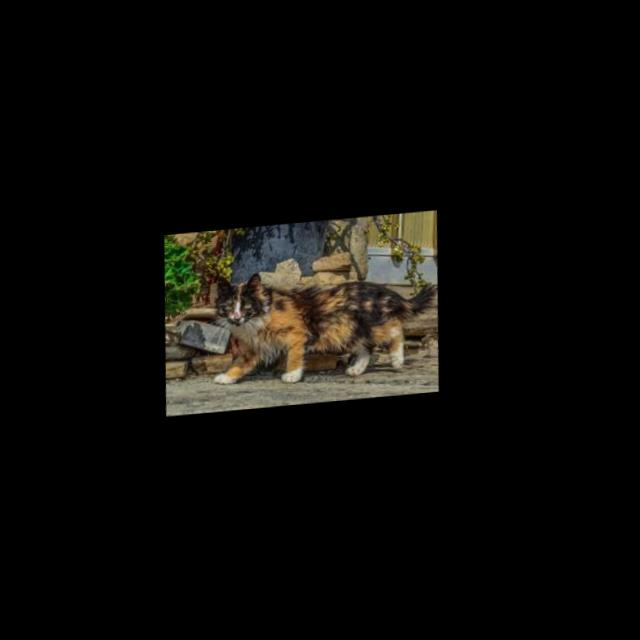animals: (208, 255, 447, 393)
